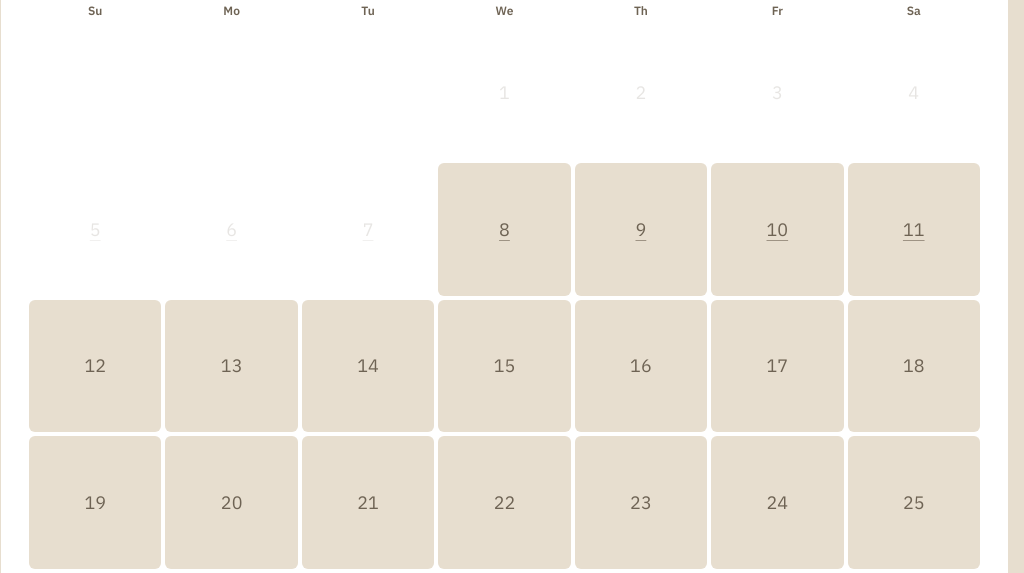
Scenario: AvailabilityClient multi-day scope › announces the count as the selection changes
The image size is (1024, 573).
Click the button "15".
click(504, 366)  # box [438,300,571,432]
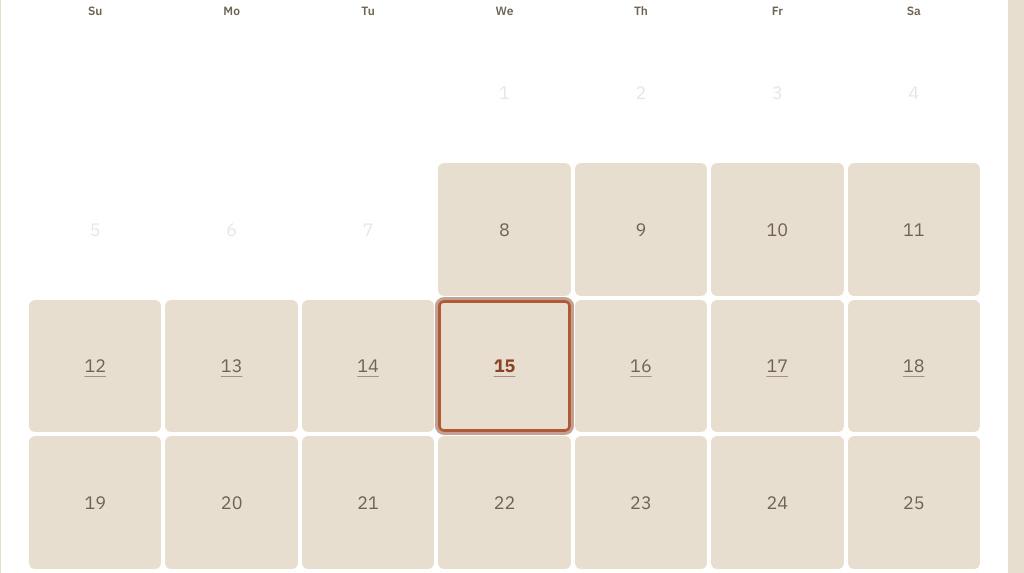
Click the button "17".
click(777, 366)  # box [711,300,844,432]
(page scrolled)
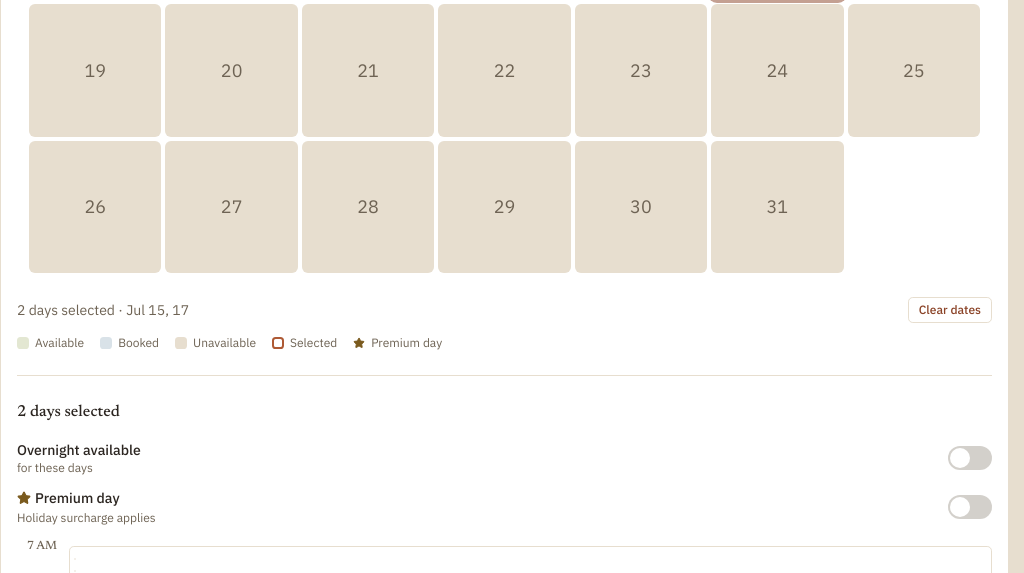
Check: the text "2 days selected · Jul 15, 17" is shown, box [17,300,189,320]
